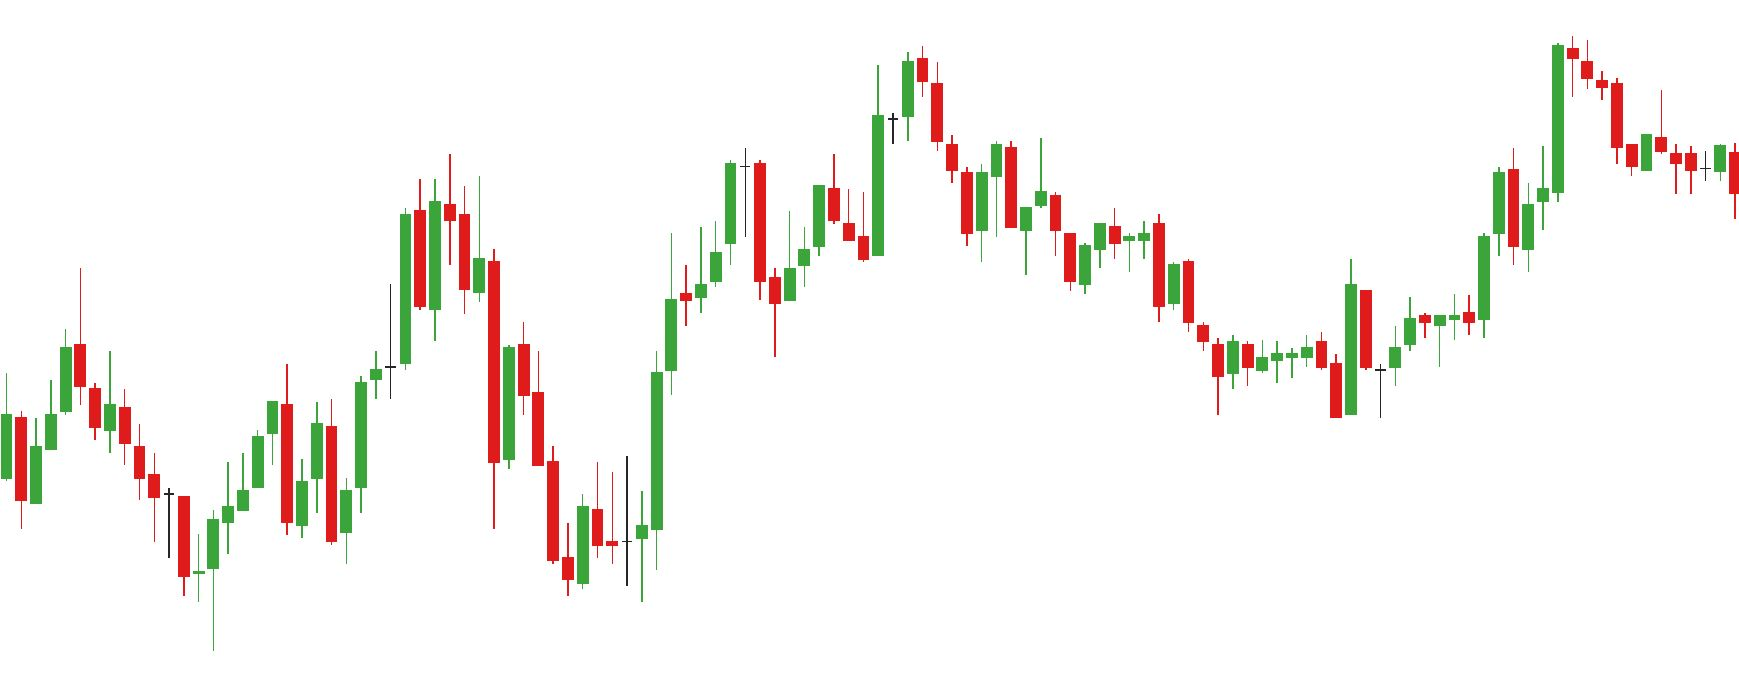buy: (338, 346, 590, 593), (1212, 344, 1360, 425)
